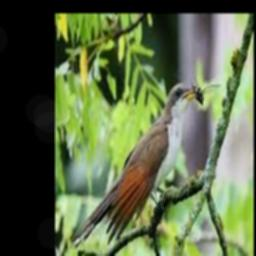Cuckoo: (71, 83, 196, 249)
